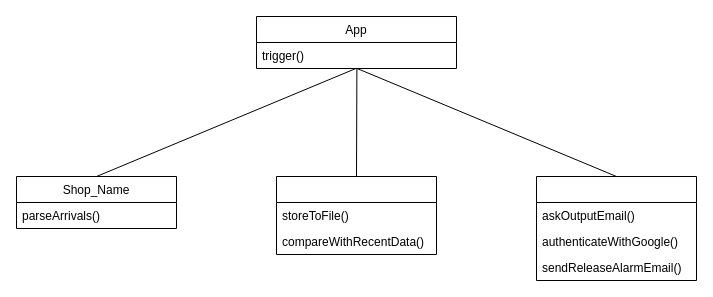
The diagram is 713 pixels wide and 297 high, and some of its shapes have lost their labels. The box of each missing label's shape, as (x1, y1, x2, y2) in pixels:
Email Service: (536, 176, 696, 280)
File Manager: (276, 176, 436, 254)
